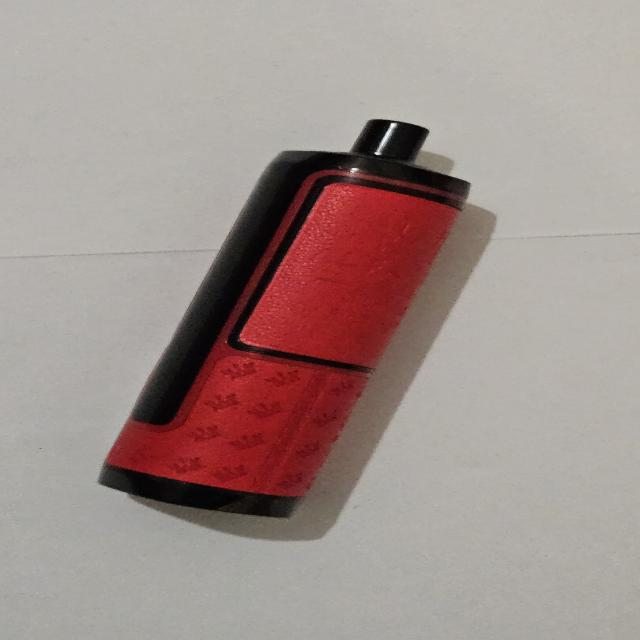Hazard: (96, 118, 472, 520)
